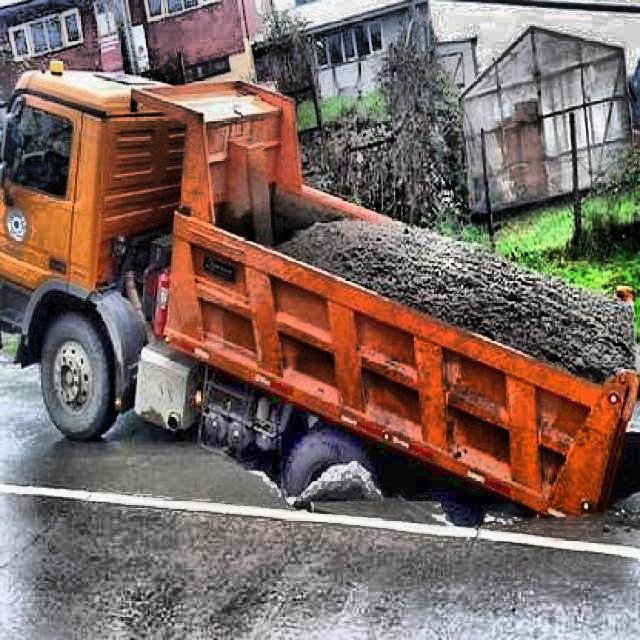dump_truck: (0, 44, 640, 541)
